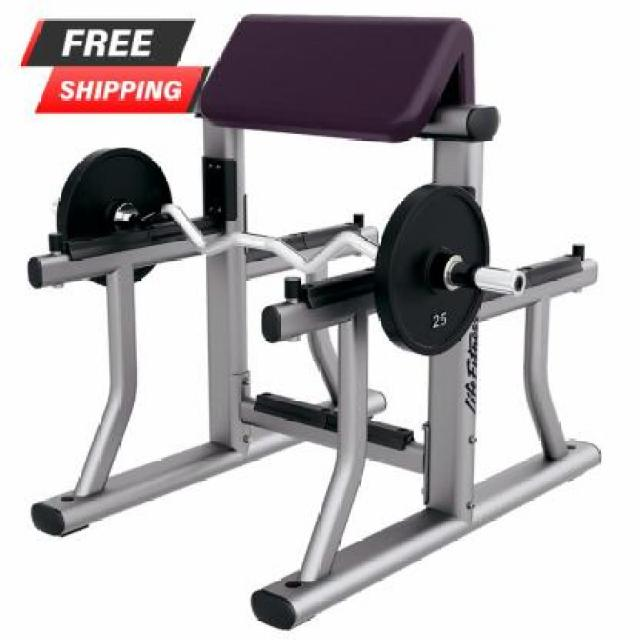arm curl machine: (29, 17, 602, 632)
